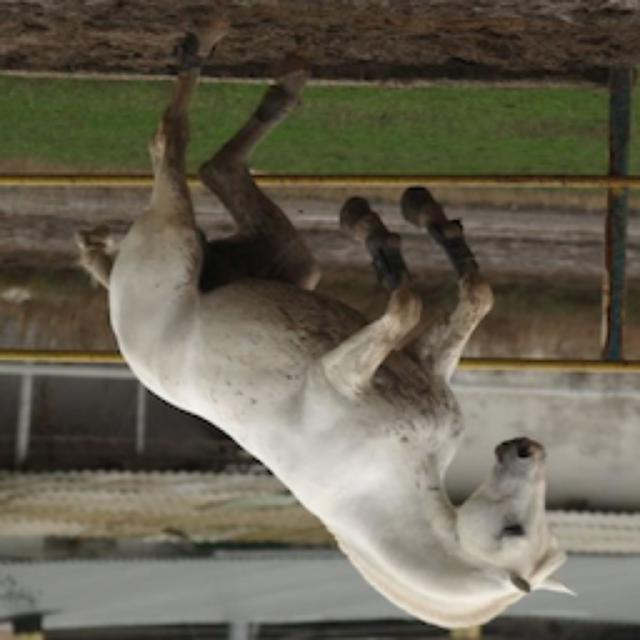Horse: (68, 10, 580, 635)
